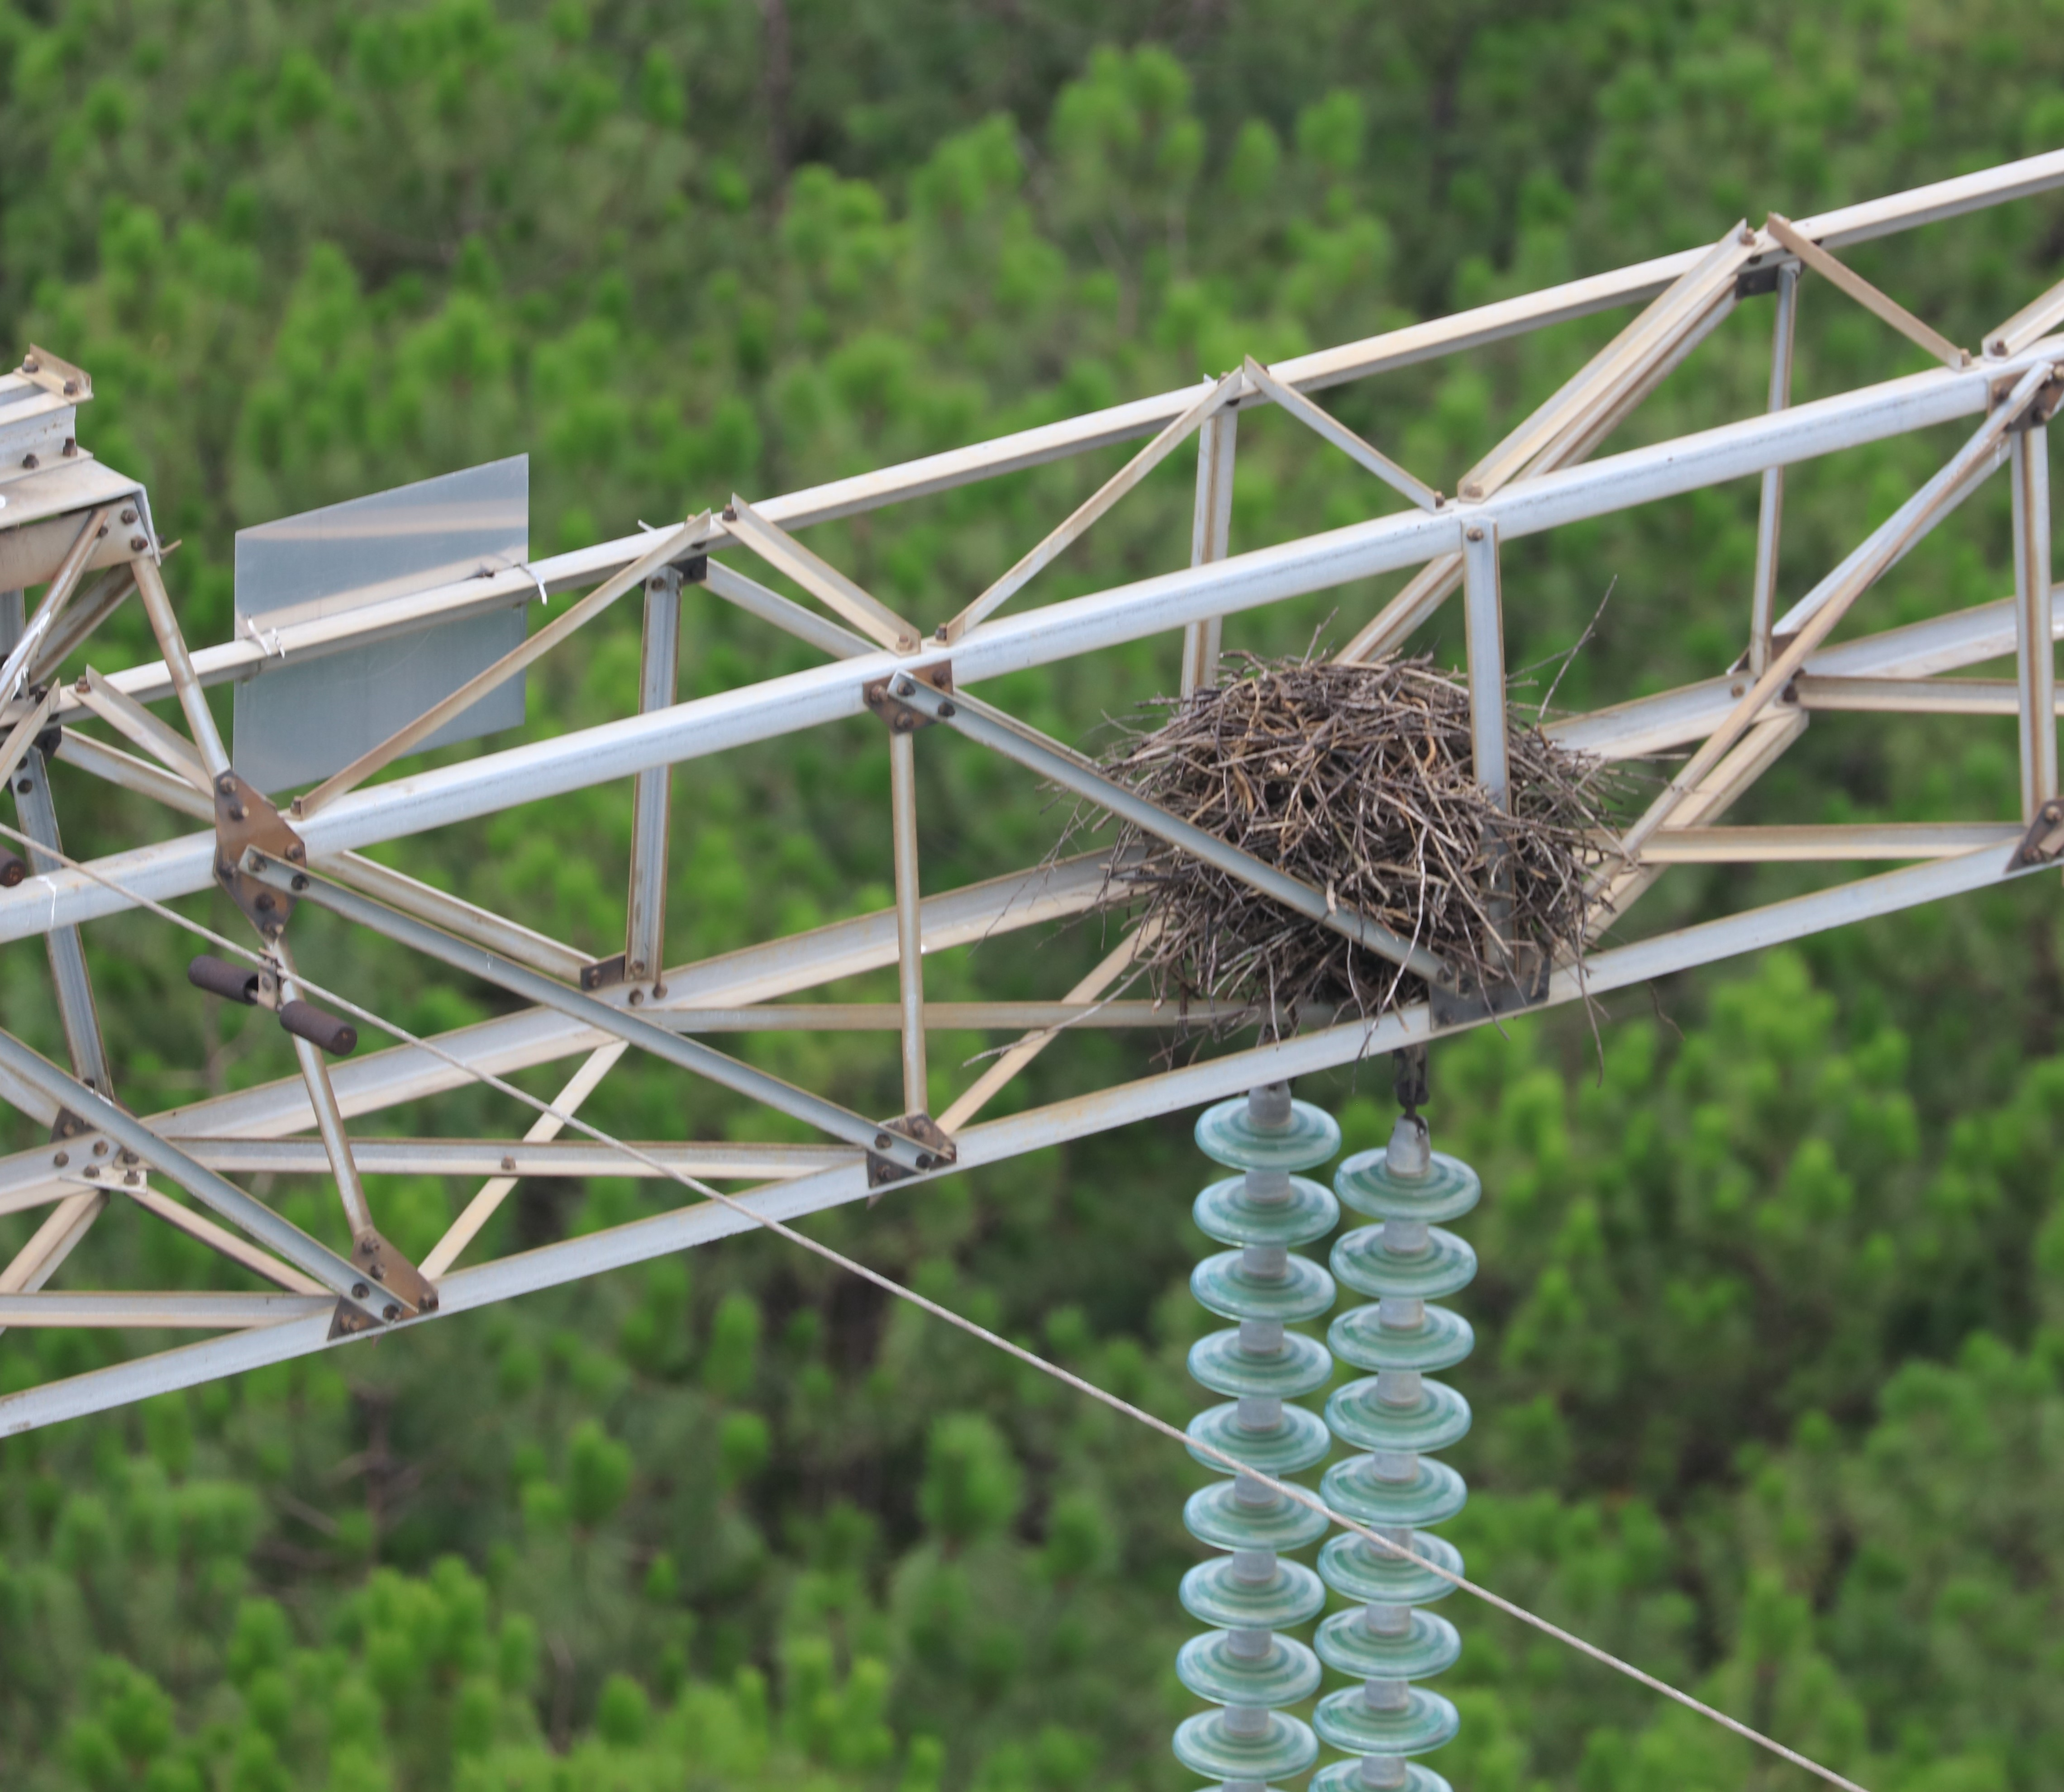niaowo: (1053, 611, 1622, 1025)
